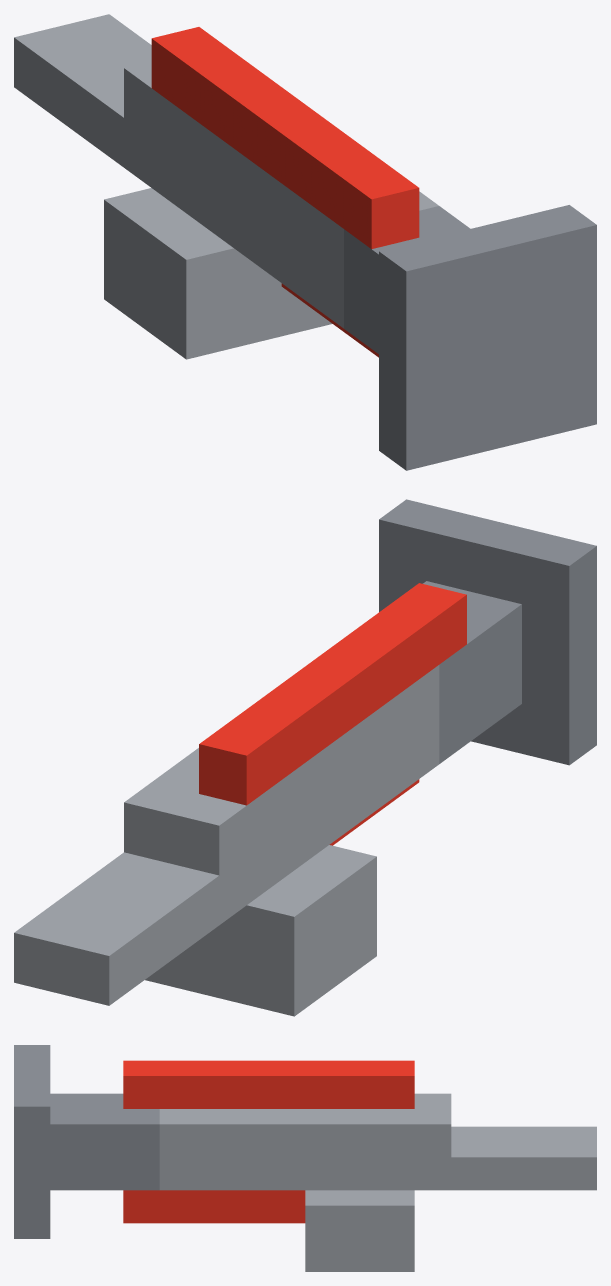
Rendered from soviet_ppsh.obj.
3 renders of one model, top to bottom at view 1: azimuth 30°, elevation 25°; view 2: azimuth 150°, elevation 25°; view 3: azimuth 270°, elevation 25°, orthographic. The views are drawn at different scales.
Bounding box in the file's own units: 0.12 × 0.15 × 0.48.
